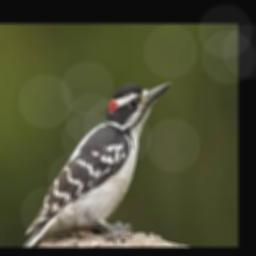Woodpecker: (22, 80, 171, 247)
